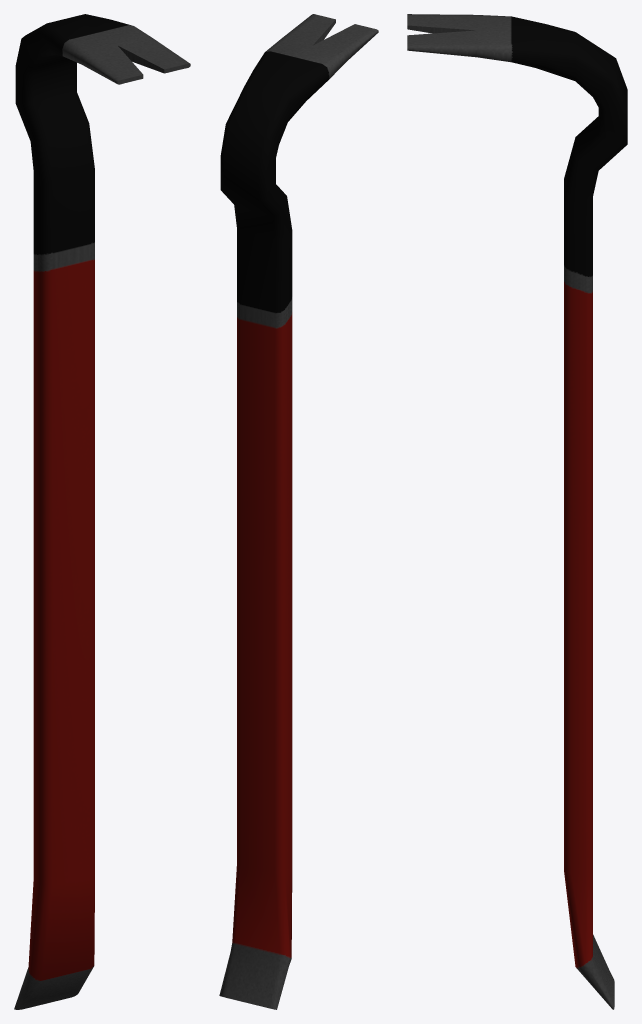
The model's file is crowbar.glb.
The picture shows the model from 3 angles, left to right: view 1: azimuth 30°, elevation 25°; view 2: azimuth 150°, elevation 25°; view 3: azimuth 270°, elevation 25°; orthographic projection. The views are drawn at different scales.
Visible parts, largest first — view 1: crowbar; view 2: crowbar; view 3: crowbar.
Part boxes in pixels (box(x1,y1,x2,y2)): crowbar: box(14, 14, 190, 1009); crowbar: box(219, 14, 378, 1009); crowbar: box(407, 14, 627, 1009).
Bounding box in the file's own units: 0.14 × 1.84 × 0.38.
1 material, 1 textured.
